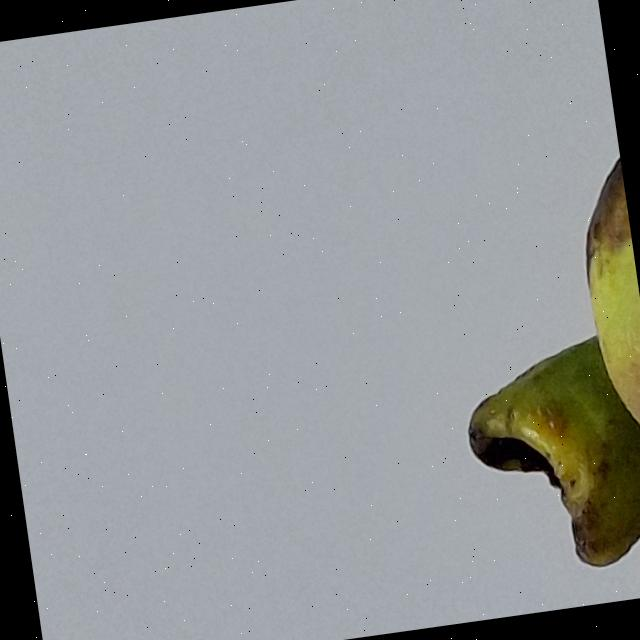mangosteen: (394, 0, 640, 620)
